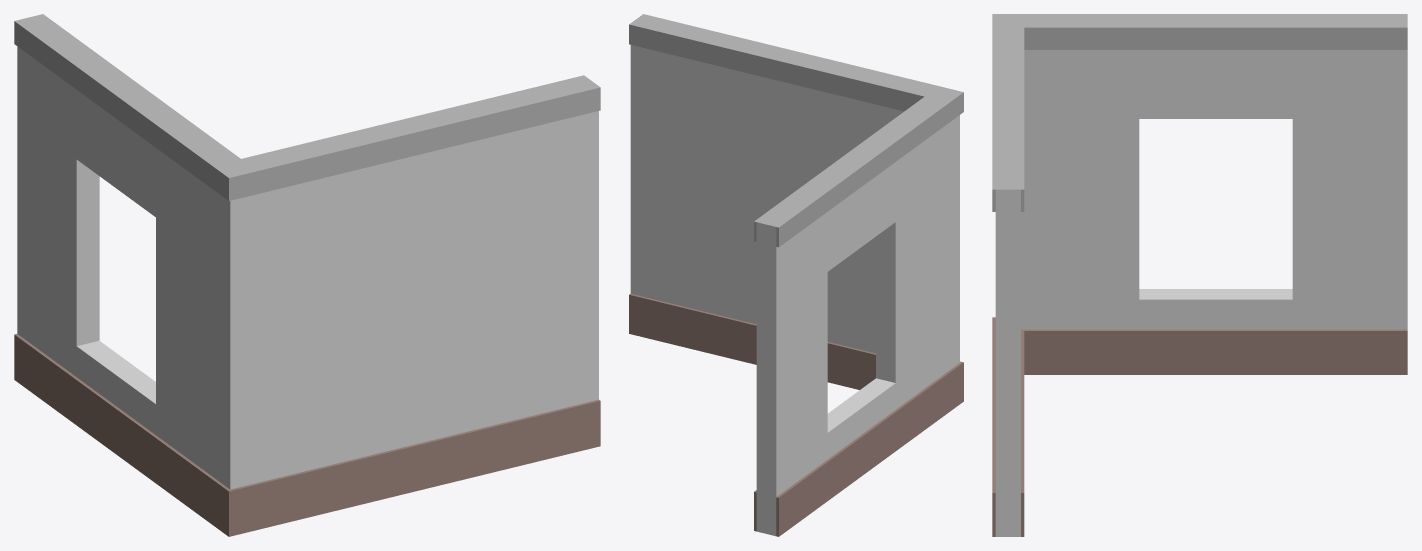
File: Wall01-04.fbx
3 renders of one model, left to right at view 1: azimuth 30°, elevation 25°; view 2: azimuth 150°, elevation 25°; view 3: azimuth 270°, elevation 25°, orthographic. The views are drawn at different scales.
Visible parts, largest first — view 1: Wall01-04; view 2: Wall01-04; view 3: Wall01-04.
Part boxes in pixels (x1,y1,x2,y2): Wall01-04: [14, 14, 600, 536]; Wall01-04: [629, 14, 963, 536]; Wall01-04: [992, 14, 1407, 536].
Bounding box in the file's own units: 3.25 × 3.25 × 3.
